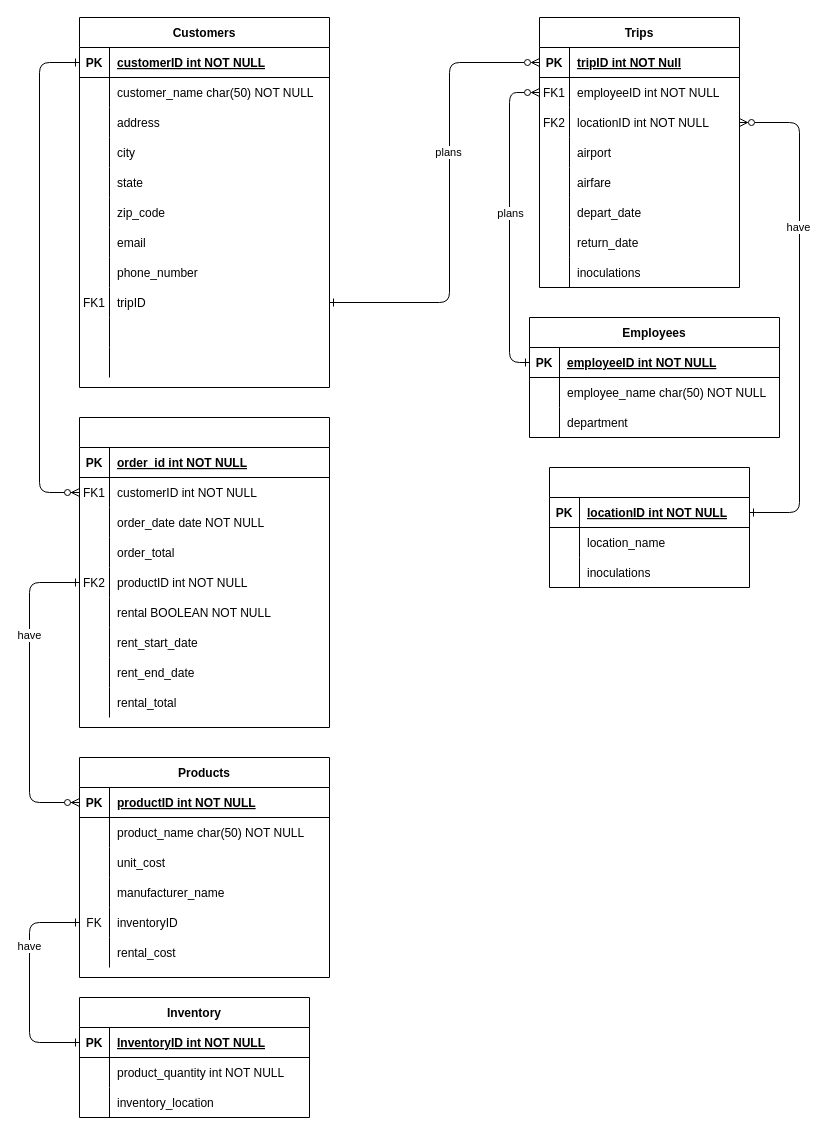
Image size: 827x1135. Some labels were removed from this diagram. Here are the shapes that lost their labels. From the top down, the box of each, then its label:
(548, 466, 750, 588): Locations
(78, 416, 330, 728): Orders
